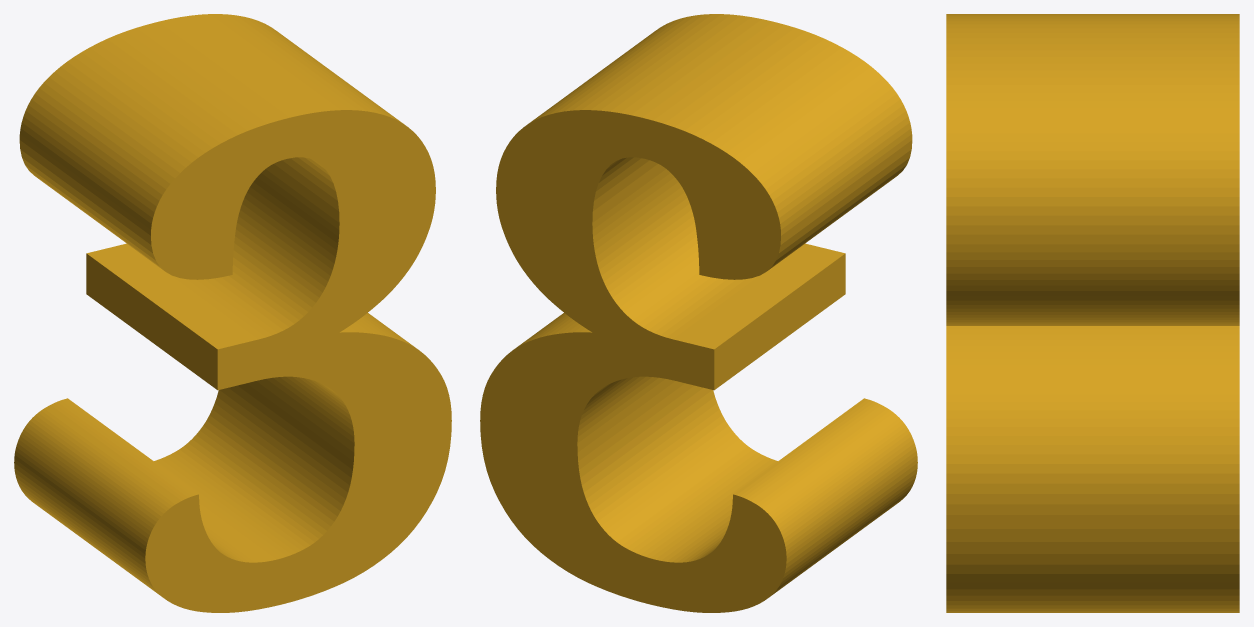
The model's file is tinker.obj.
The picture shows the model from 3 angles, left to right: view 1: azimuth 30°, elevation 25°; view 2: azimuth 150°, elevation 25°; view 3: azimuth 270°, elevation 25°; orthographic projection. The views are drawn at different scales.
Parts seen in each view (by area): view 1: obj_0; view 2: obj_0; view 3: obj_0.
Part boxes in pixels (x1=…): obj_0: x1=14, y1=14, x2=451, y2=612; obj_0: x1=480, y1=14, x2=917, y2=612; obj_0: x1=946, y1=14, x2=1239, y2=612.
Size of the model in its own units: 13.48 by 20.38 by 10.
